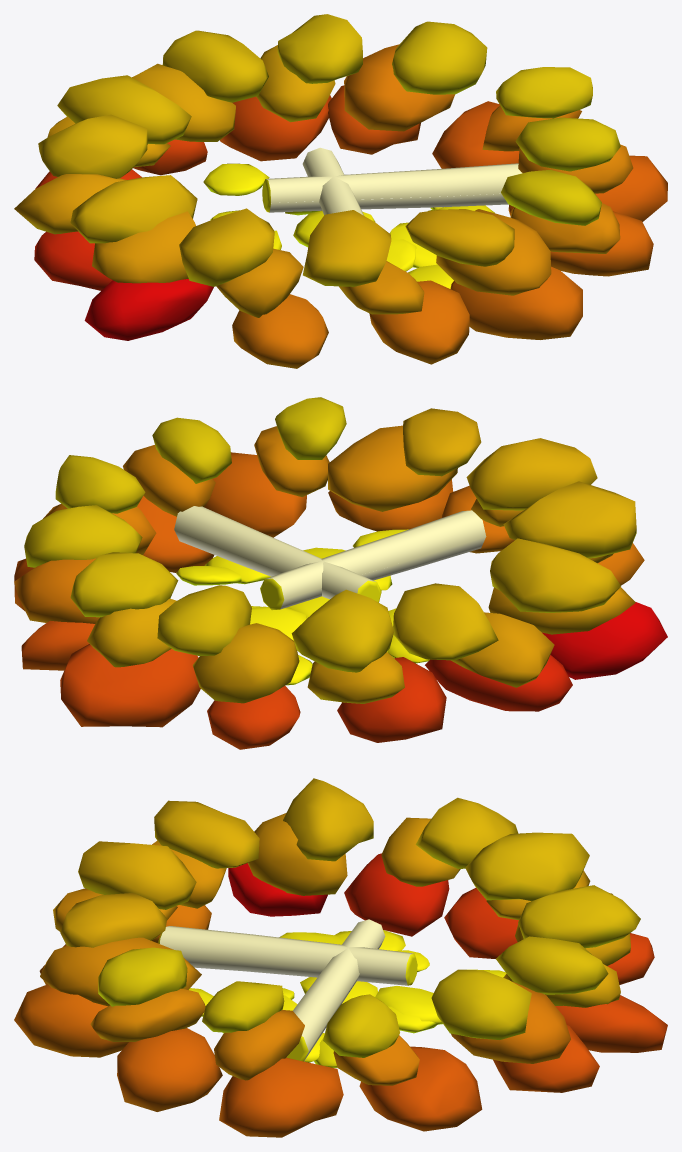
The model's file is camp_fire_pit.glb.
3 views of the same model, one above another, from view 1: azimuth 30°, elevation 25°; view 2: azimuth 150°, elevation 25°; view 3: azimuth 270°, elevation 25° (orthographic). The views are drawn at different scales.
Visible parts, largest first — view 1: Model; view 2: Model; view 3: Model.
Part boxes in pixels (bbox=[...]): Model: bbox=[14, 14, 667, 368]; Model: bbox=[14, 397, 667, 749]; Model: bbox=[14, 778, 667, 1137].
Size of the model in its own units: 1.72 by 0.3821 by 1.72.
